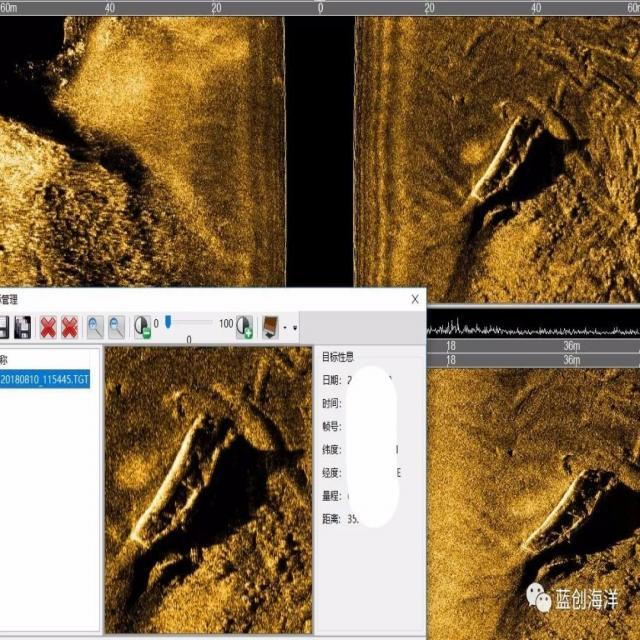shipwreck: (129, 412, 242, 552), (514, 463, 624, 562), (468, 111, 544, 206)
